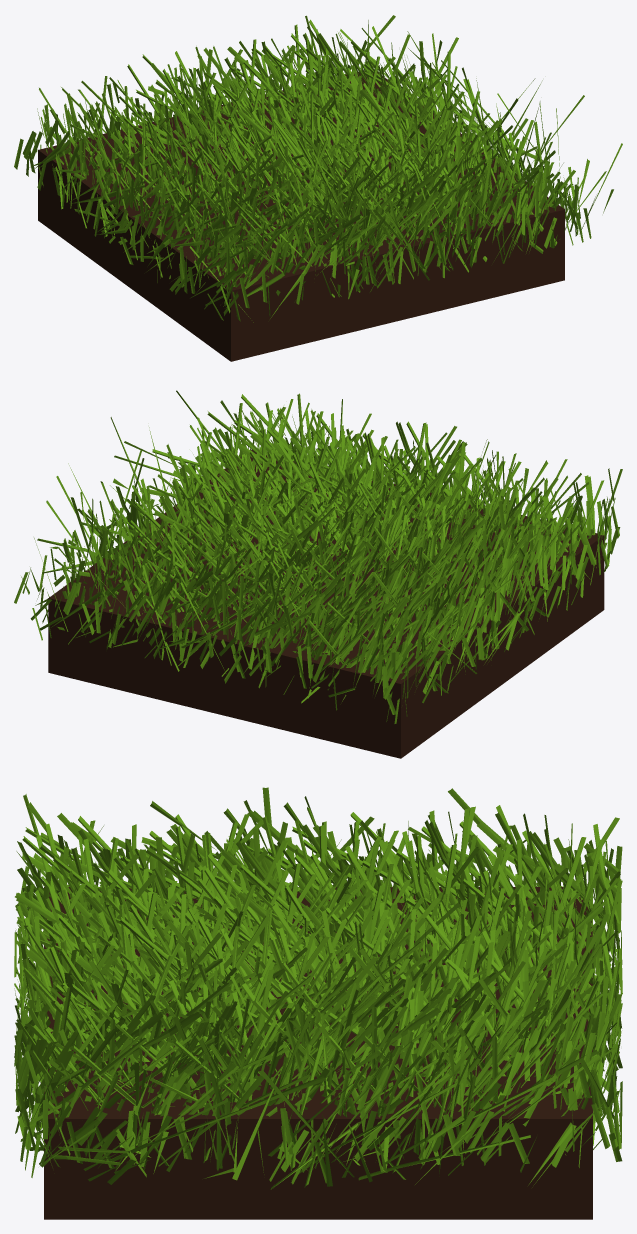
Rendered from ChaoGrama.fbx.
3 renders of one model, top to bottom at view 1: azimuth 30°, elevation 25°; view 2: azimuth 150°, elevation 25°; view 3: azimuth 270°, elevation 25°, orthographic. The views are drawn at different scales.
Visible parts, largest first — view 1: imagetostl_mesh0, Cube.001; view 2: imagetostl_mesh0, Cube.001; view 3: imagetostl_mesh0, Cube.001.
Boxes of the visible parts, <box> form: imagetostl_mesh0: <box>14,15,622,322</box>; Cube.001: <box>38,70,564,361</box>; imagetostl_mesh0: <box>14,390,622,723</box>; Cube.001: <box>48,449,604,758</box>; imagetostl_mesh0: <box>14,787,622,1189</box>; Cube.001: <box>44,887,592,1219</box>.
Size of the model in its own units: 510 by 148 by 436.
